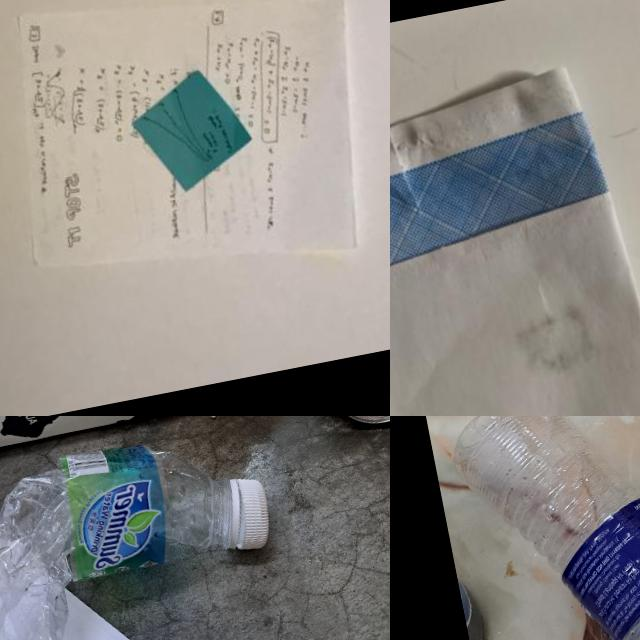garrafa plástica: (0, 428, 296, 640), (442, 416, 640, 640)
papel: (0, 0, 390, 313), (390, 57, 640, 416), (0, 445, 256, 640)
tampa plástica: (212, 470, 273, 556)
